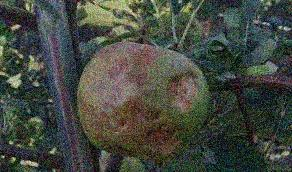rotten apple: (77, 39, 207, 163)
